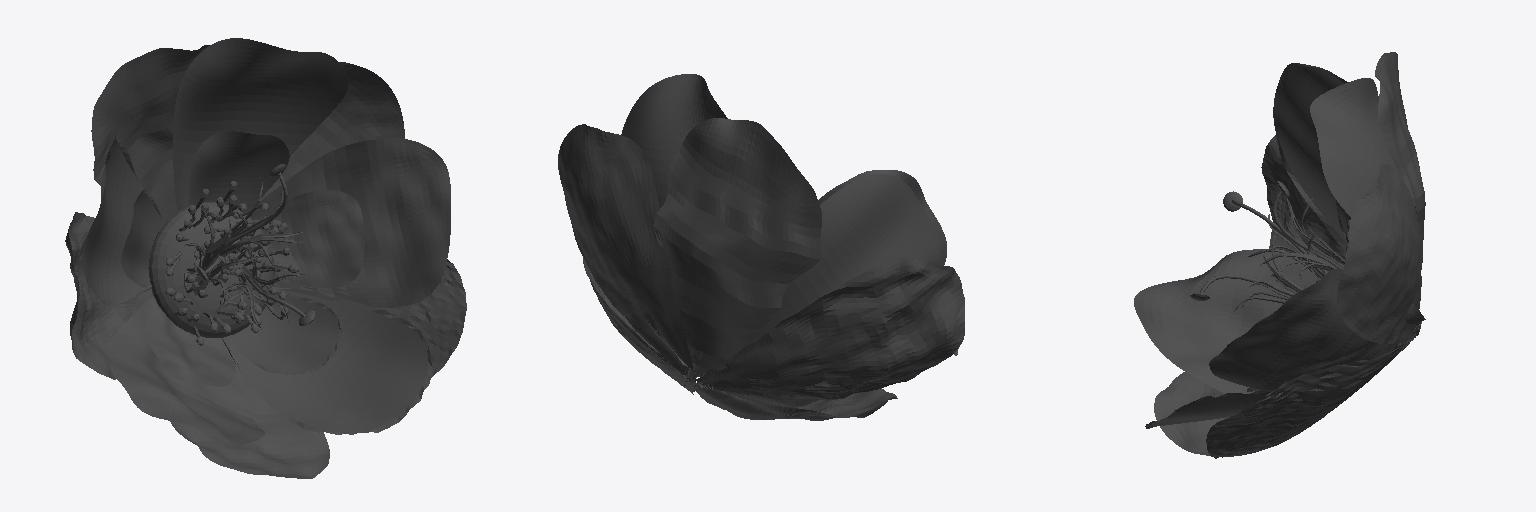
The model's file is Flower-OBJ.obj.
3 views of the same model, side by side, from view 1: azimuth 30°, elevation 25°; view 2: azimuth 150°, elevation 25°; view 3: azimuth 270°, elevation 25° (orthographic).
Parts seen in each view (by area): view 1: Flower; view 2: Flower; view 3: Flower.
Part boxes in pixels (x1,y1,x2,y2): Flower: (65,38,466,478); Flower: (558,74,964,420); Flower: (1134,52,1425,458).
Bounding box in the file's own units: 28.65 × 26.64 × 19.01.